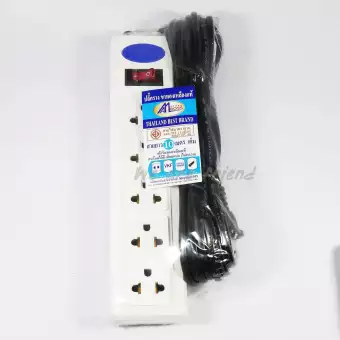Three_eye_plug: (95, 12, 243, 336)
